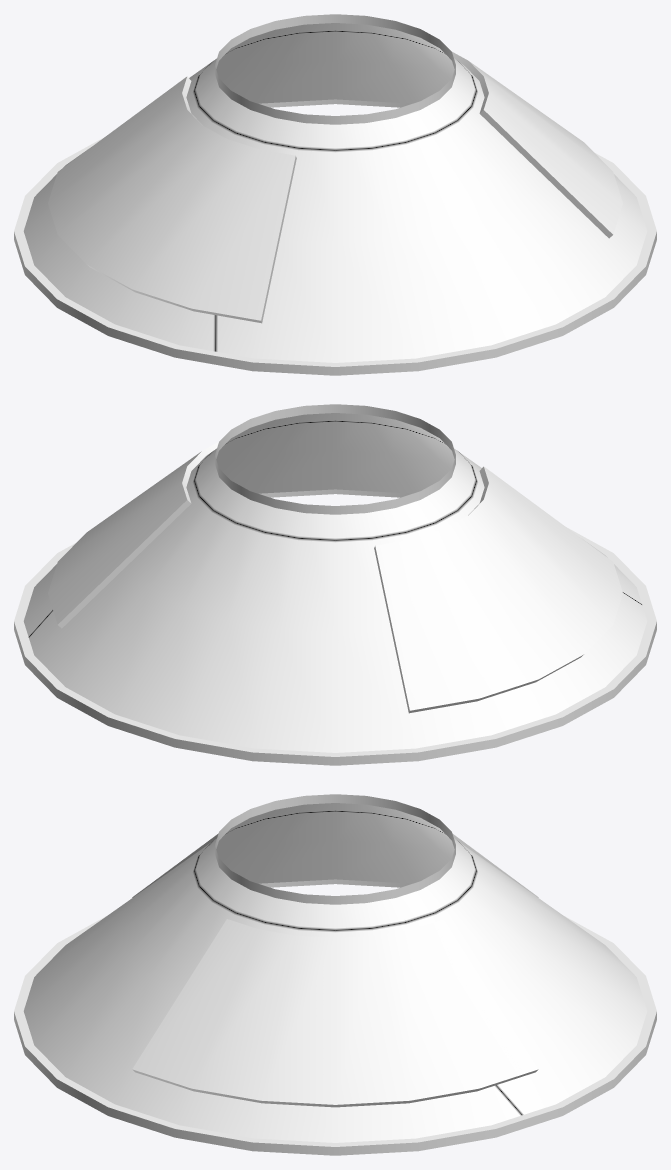
The model's file is acamar_adapter_s2_s0p5_1.obj.
3 renders of one model, top to bottom at view 1: azimuth 30°, elevation 25°; view 2: azimuth 150°, elevation 25°; view 3: azimuth 270°, elevation 25°, orthographic.
Visible parts, largest first — view 1: mesh1; view 2: mesh1; view 3: mesh1.
Part boxes in pixels (x1=…): mesh1: x1=14, y1=14, x2=656, y2=375; mesh1: x1=14, y1=404, x2=656, y2=765; mesh1: x1=14, y1=794, x2=656, y2=1155.
Bounding box in the file's own units: 2.5 × 0.75 × 2.5.
